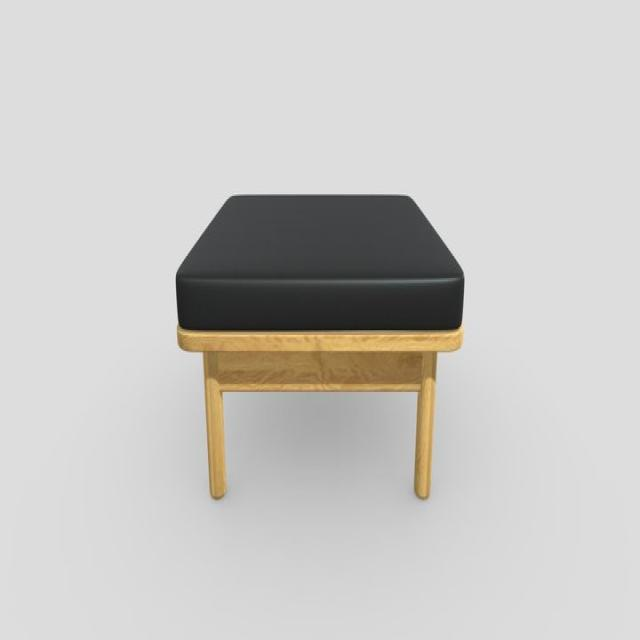table: (177, 190, 467, 505)
